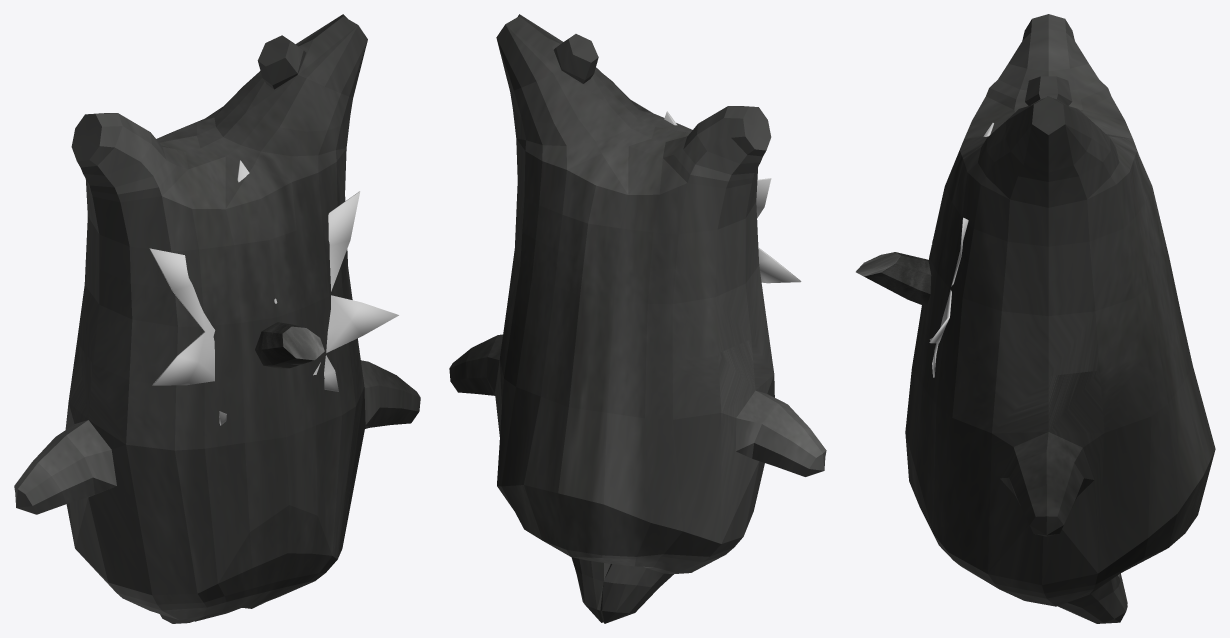
Rendered from frame_0005.obj.
3 views of the same model, side by side, from view 1: azimuth 30°, elevation 25°; view 2: azimuth 150°, elevation 25°; view 3: azimuth 270°, elevation 25° (orthographic). The views are drawn at different scales.
Parts seen in each view (by area): view 1: korok, leaf.003_柱体.013, nose.003_柱体.011; view 2: korok, leaf.003_柱体.013; view 3: korok, nose.003_柱体.011, leaf.003_柱体.013.
Boxes of the visible parts, bbox=[...] form: korok: bbox=[14, 14, 420, 623]; leaf.003_柱体.013: bbox=[149, 160, 398, 425]; nose.003_柱体.011: bbox=[255, 322, 324, 368]; korok: bbox=[449, 14, 826, 623]; leaf.003_柱体.013: bbox=[664, 111, 801, 283]; korok: bbox=[905, 14, 1215, 623]; nose.003_柱体.011: bbox=[856, 252, 931, 306]; leaf.003_柱体.013: bbox=[929, 123, 993, 377].
Size of the model in its own units: 1.72 by 2.44 by 1.36.
